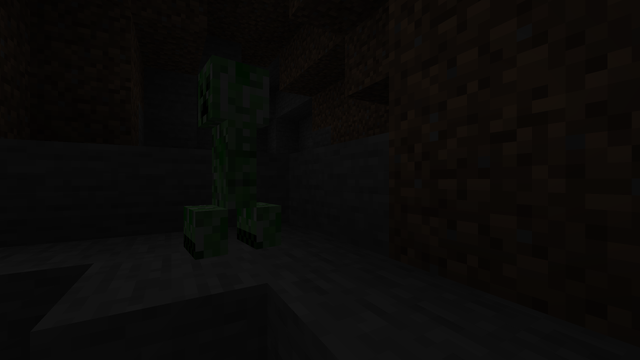creepers: (195, 41, 274, 258)
